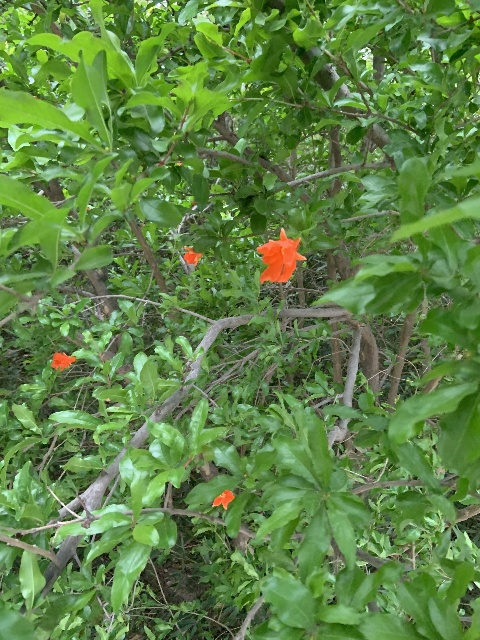flower: (256, 227, 306, 283), (50, 352, 76, 370), (212, 489, 234, 509), (183, 246, 202, 266)
